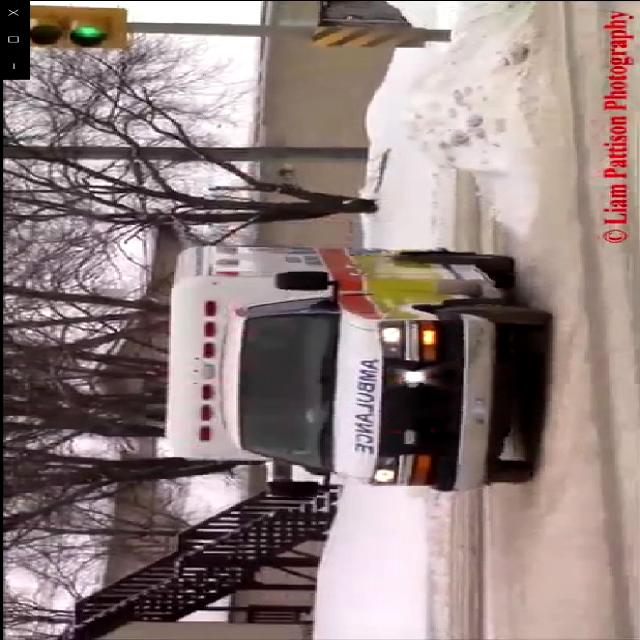emergency: (156, 235, 558, 499)
